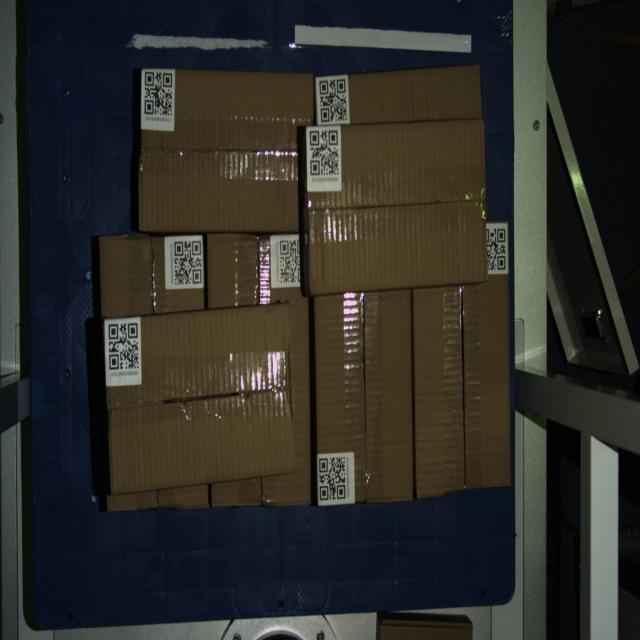box: (103, 302, 296, 494), (306, 119, 488, 296)
